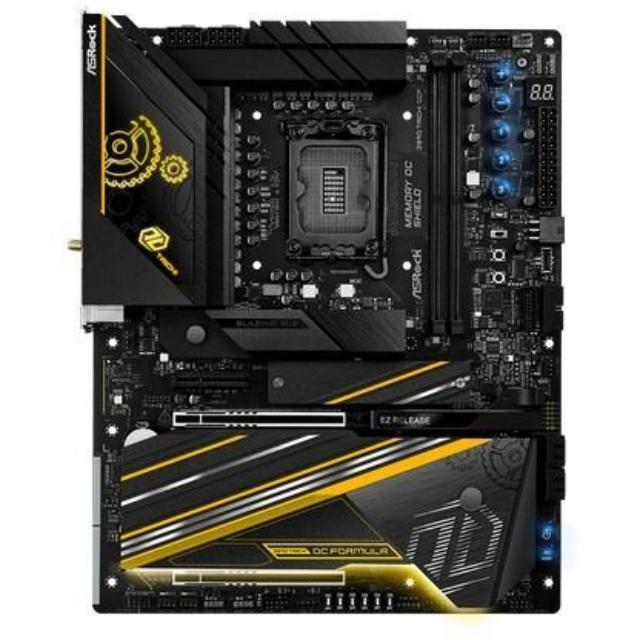Mainboard: (69, 4, 572, 624)
